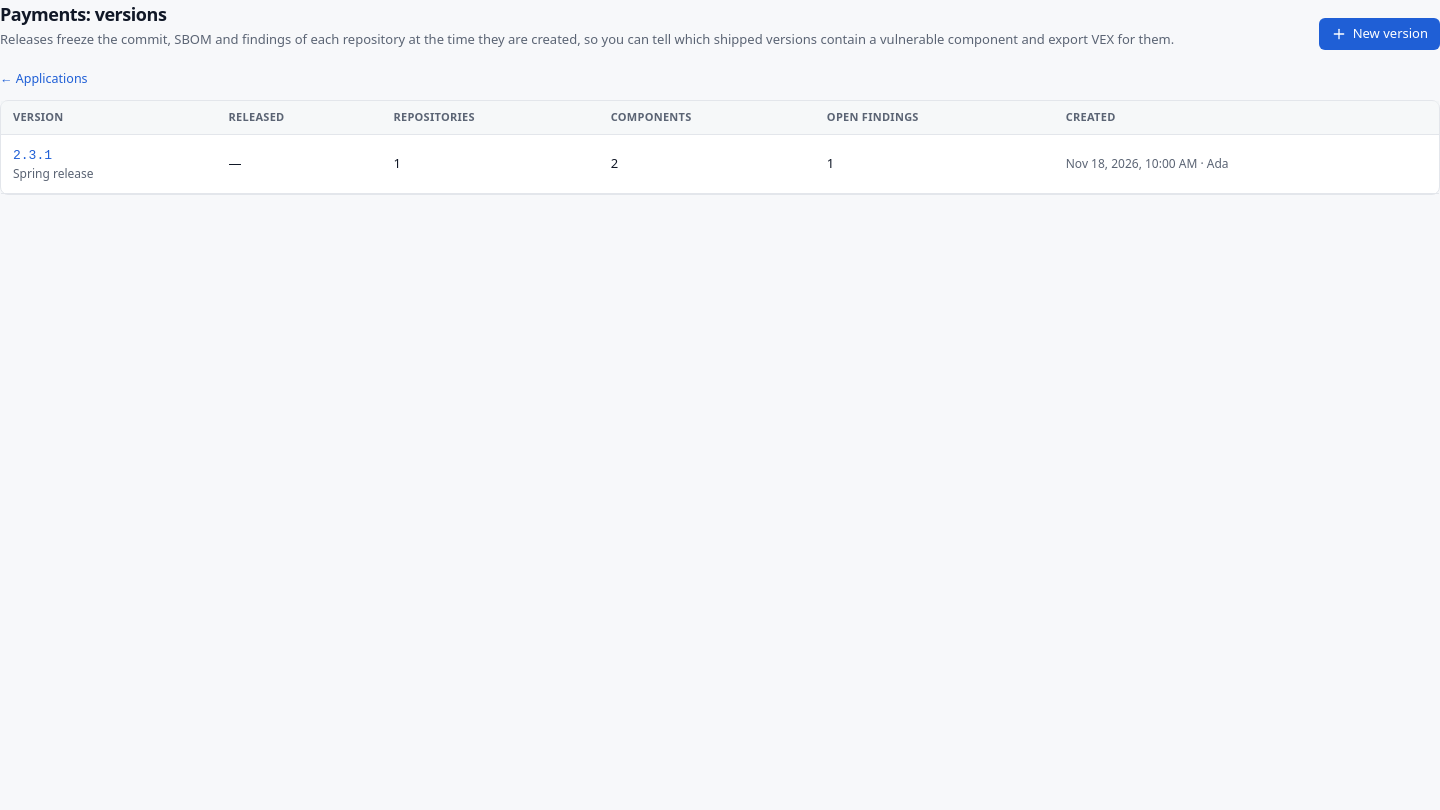
Test case: application versions › lists versions, creates one and shows the frozen snapshot with VEX export links
Expected: the heading "Payments: versions" is shown, 0,2 -> 166,26
Step 1. Click the button "New version" → [1379, 34], box 1319,18 -> 1439,50
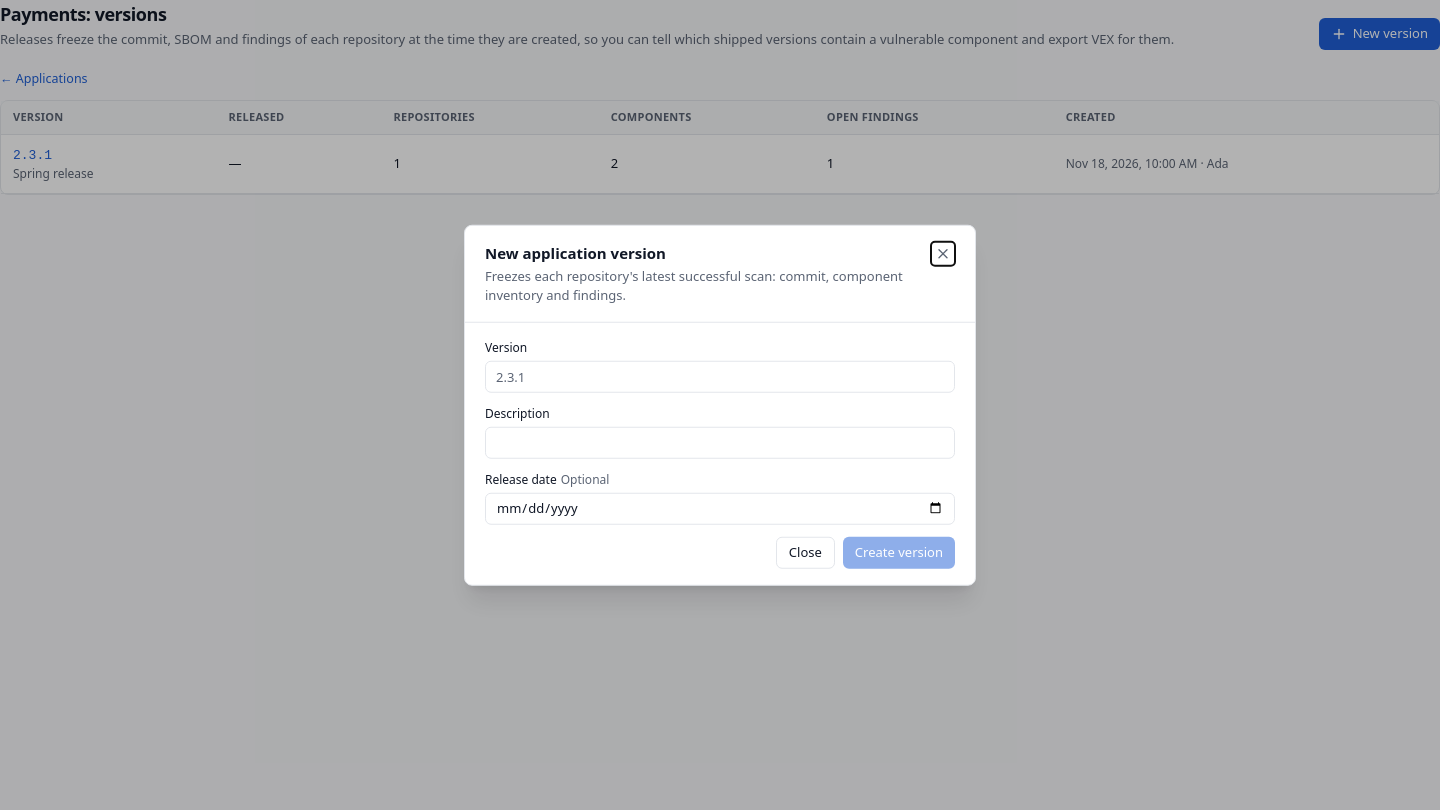
Step 2. Type "2.4.0" into the field labelled "Version" → [720, 376], box 485,360 -> 955,392
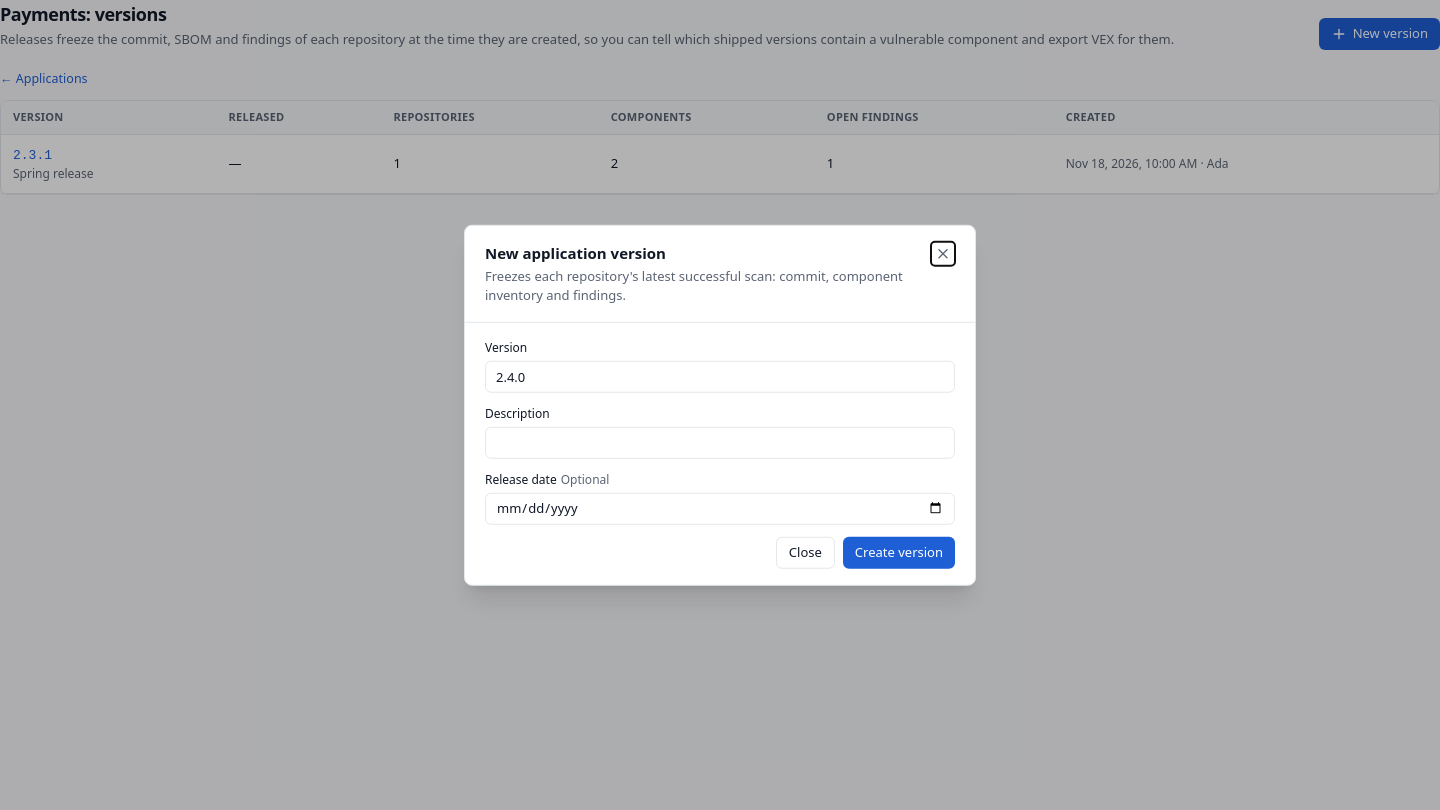
Step 3. Click the button "Create version" → [899, 552], box 843,536 -> 955,568
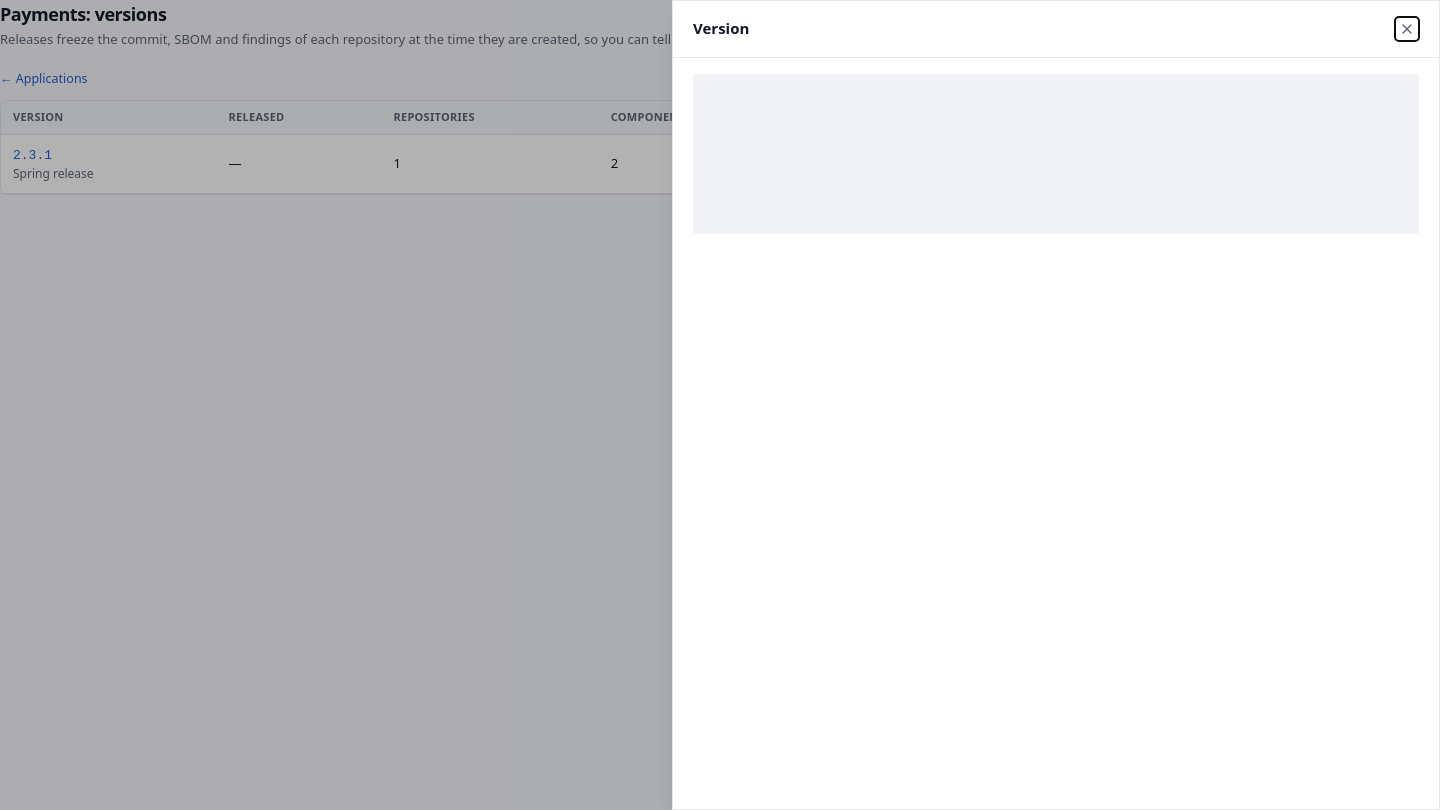
Step 4. Press Escape in the button named "Close", box 1395,17 -> 1419,41
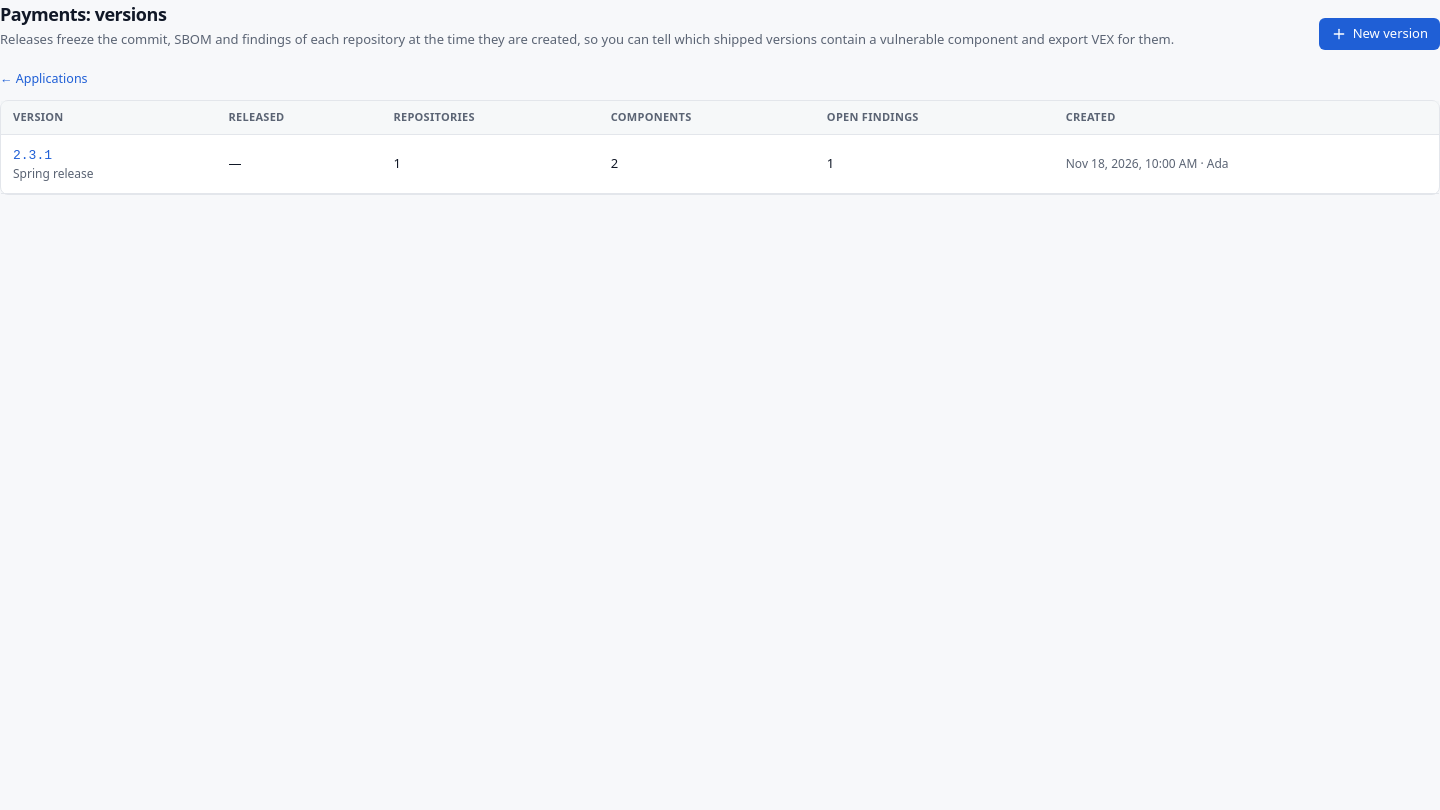
Expected: the button "Create version" is not shown
Step 5. Click the button "2.3.1" → [32, 156], box 13,146 -> 52,165
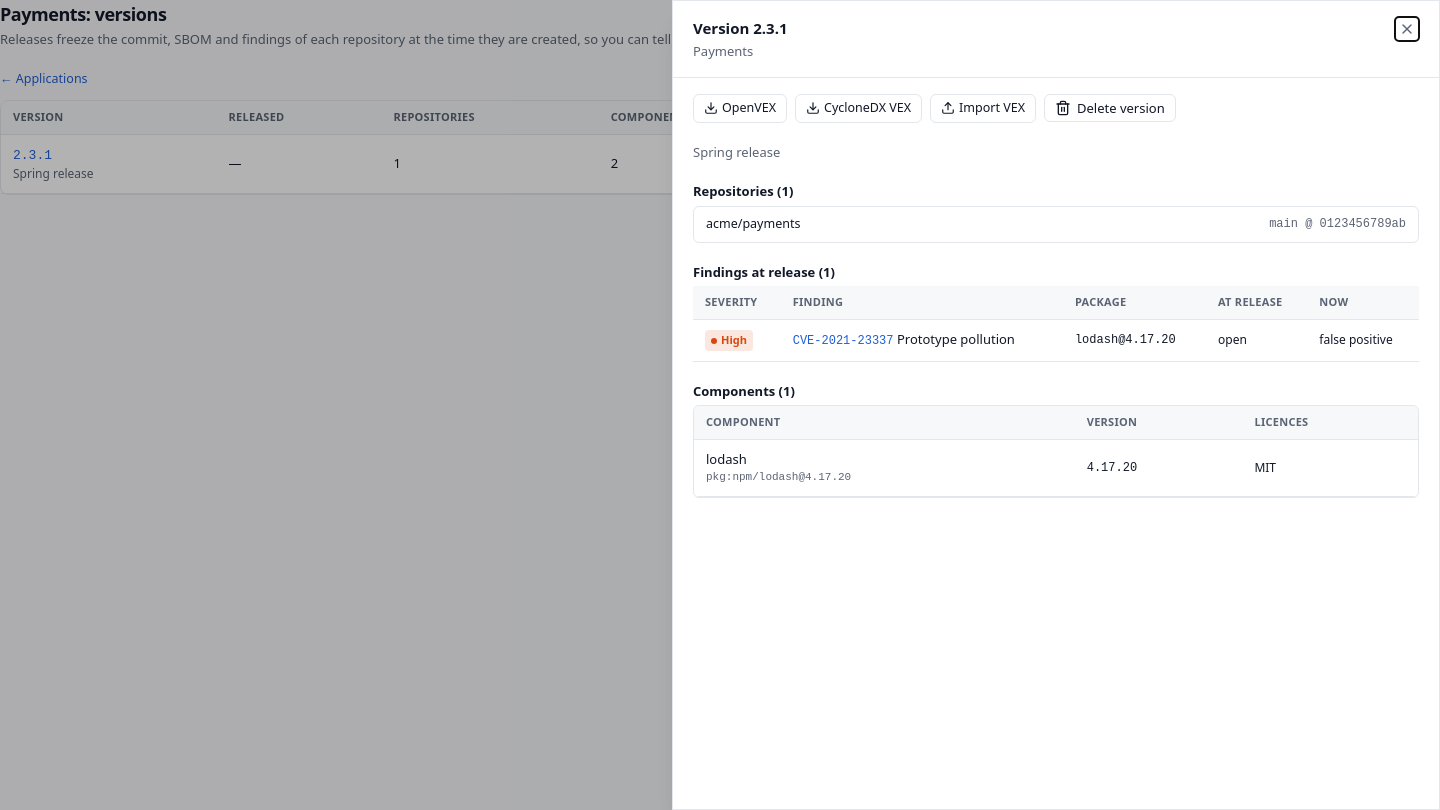
Expected: the text "Prototype pollution" is shown, 897,330 -> 1015,348
Expected: the text "false positive" is shown, 1307,319 -> 1419,361
Expected: the text "main @ 0123456789ab" is shown, 1269,215 -> 1406,233
